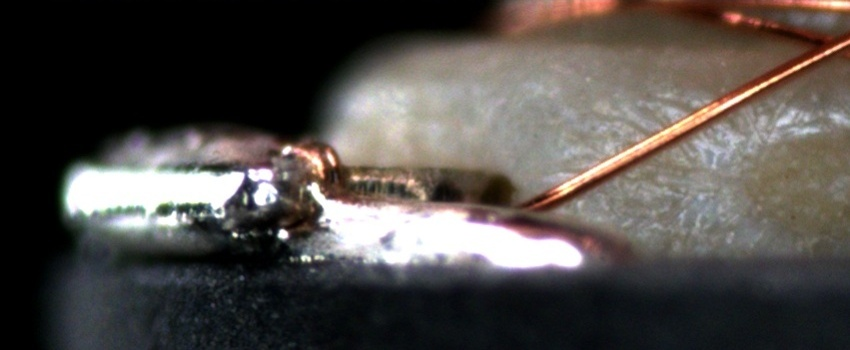CL: (783, 21, 846, 71)
DL: (621, 84, 849, 131)
TE: (276, 131, 350, 194)
